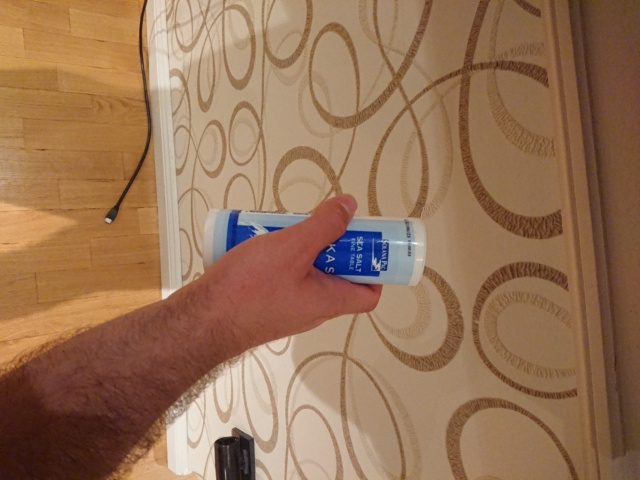Solana Pag Fine Sea Salt 250g: (200, 205, 429, 290)
